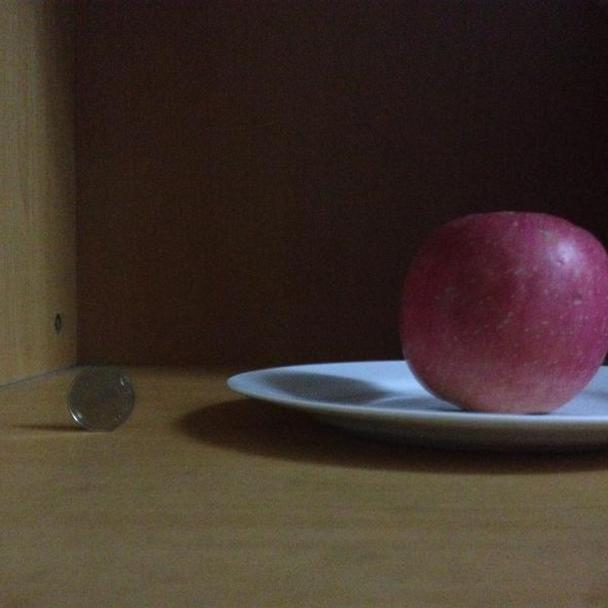apple: (398, 210, 608, 412)
